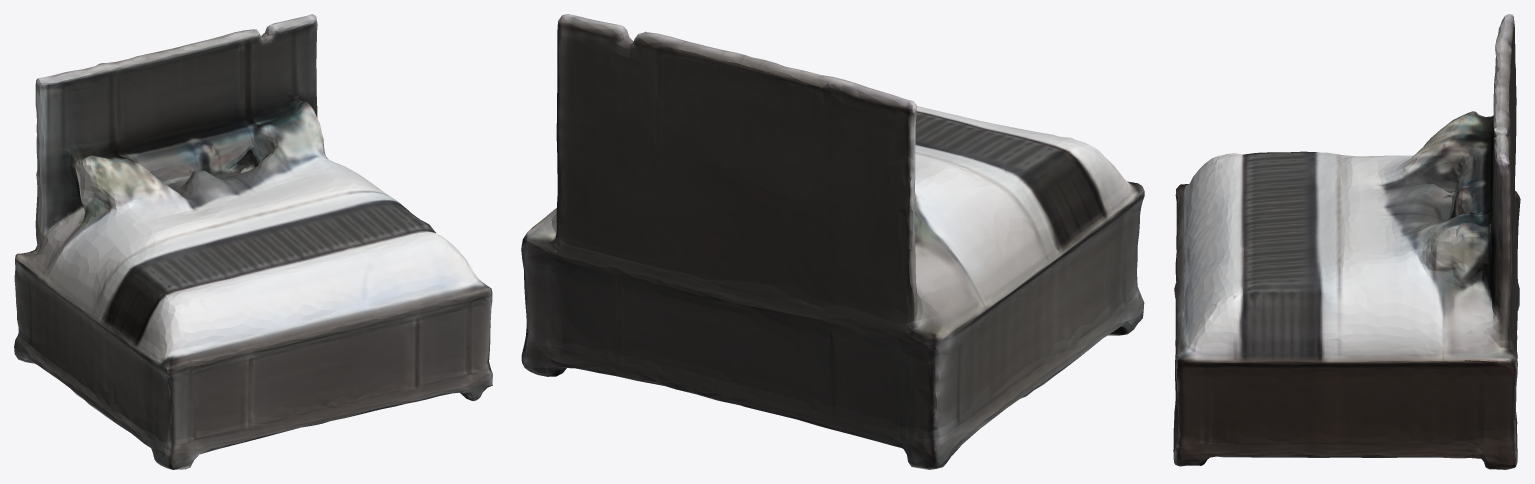
File: SESSION_1709059176_2562448_preview.gltf
The picture shows the model from 3 angles, left to right: view 1: azimuth 30°, elevation 25°; view 2: azimuth 150°, elevation 25°; view 3: azimuth 270°, elevation 25°; orthographic projection. The views are drawn at different scales.
Parts seen in each view (by area): view 1: output; view 2: output; view 3: output.
Part boxes in pixels (left/top/right/bottom): output: left=14, top=14, right=492, bottom=469; output: left=521, top=14, right=1144, bottom=469; output: left=1173, top=14, right=1520, bottom=469.
Bounding box in the file's own units: 1.36 × 1.1 × 1.15.
1 material, 1 textured.
